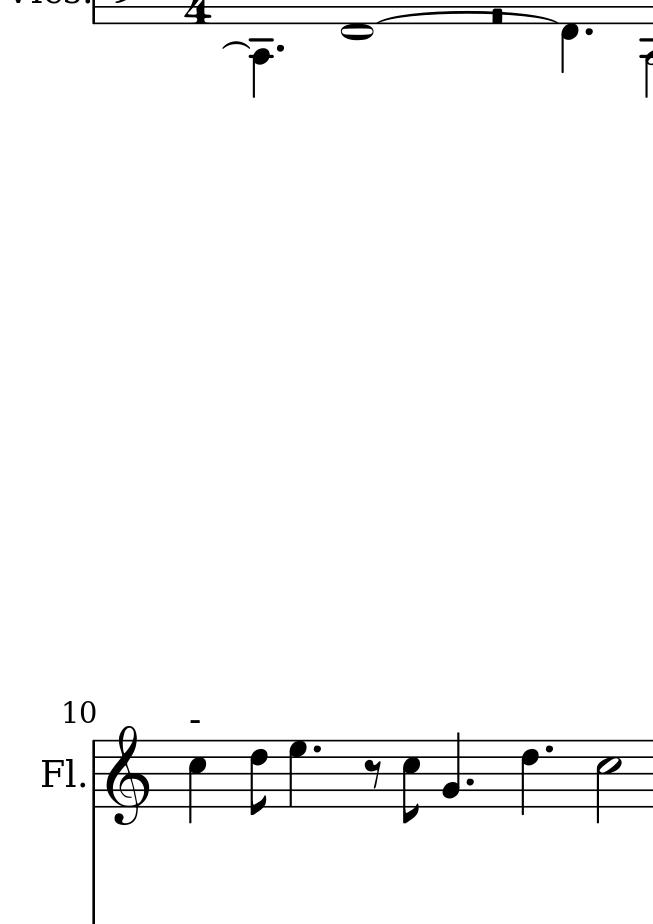0: (78, 693, 97, 729)
1: (62, 697, 79, 729)
2_5: (595, 738, 624, 823)
4_2: (441, 731, 463, 810)
4_5: (186, 740, 208, 823)
4_6: (519, 738, 541, 822)
4_7: (287, 738, 310, 810)
8_5: (401, 737, 424, 824)
8_6: (248, 739, 273, 815)
Fl: (39, 753, 77, 792)
Gclef: (105, 725, 153, 830)
Rests8: (363, 757, 382, 790)
Single_barline: (88, 741, 103, 807)
Slur: (378, 10, 564, 23), (219, 40, 253, 50)
dot: (273, 42, 286, 54), (310, 744, 321, 756), (544, 743, 555, 755), (583, 26, 594, 37), (465, 777, 475, 788)
